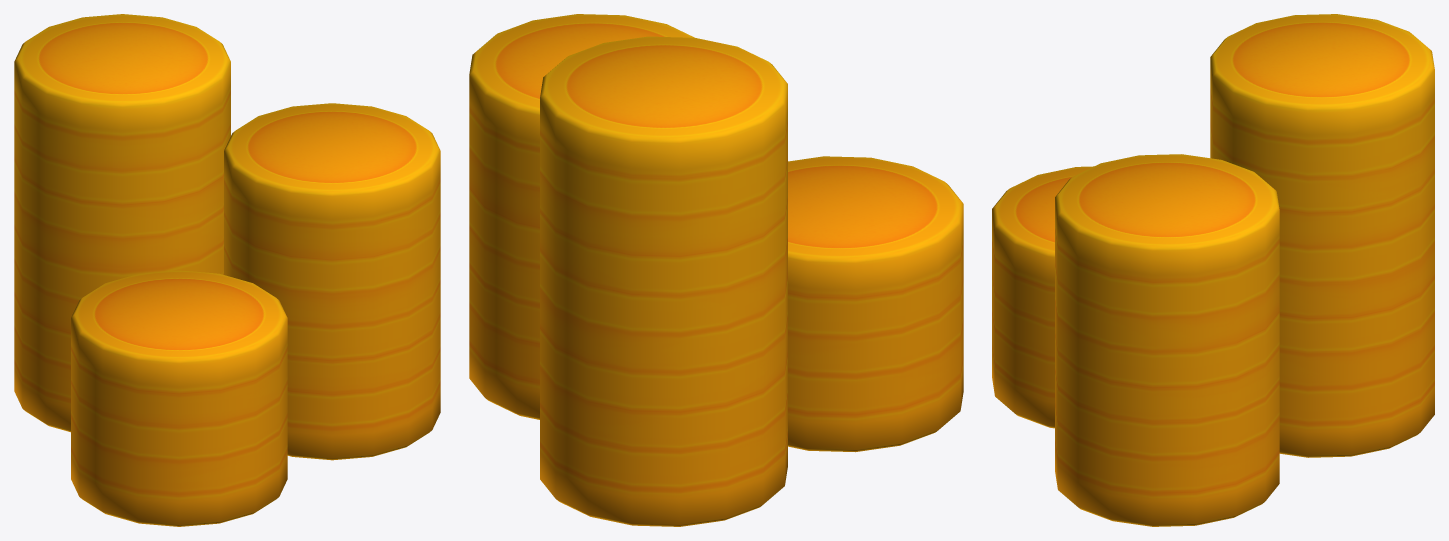
File: Coins_02.FBX
3 views of the same model, side by side, from view 1: azimuth 30°, elevation 25°; view 2: azimuth 150°, elevation 25°; view 3: azimuth 270°, elevation 25° (orthographic). The views are drawn at different scales.
Parts seen in each view (by area): view 1: Coins_02; view 2: Coins_02; view 3: Coins_02.
Boxes of the visible parts, x1,y1,x2,y2 form: Coins_02: (14, 14, 440, 526); Coins_02: (469, 14, 963, 526); Coins_02: (992, 14, 1434, 526).
Size of the model in its own units: 138 by 120 by 137.
Materials: 1 (1 with a texture image).
